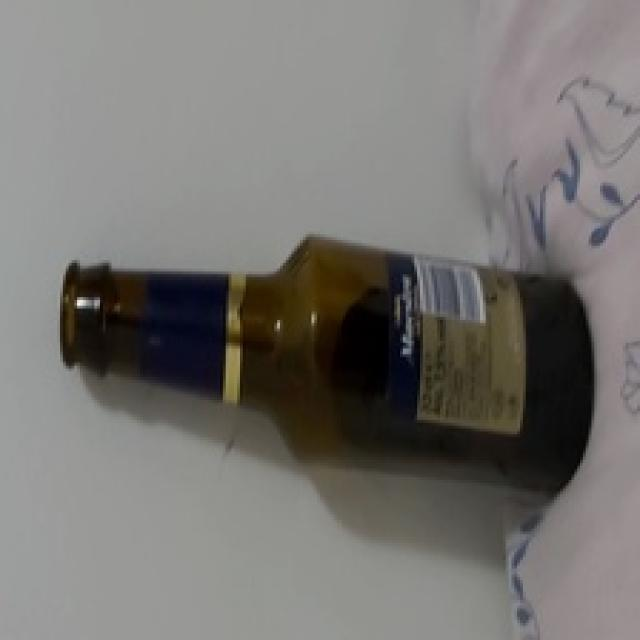Glass: (56, 229, 596, 496)
